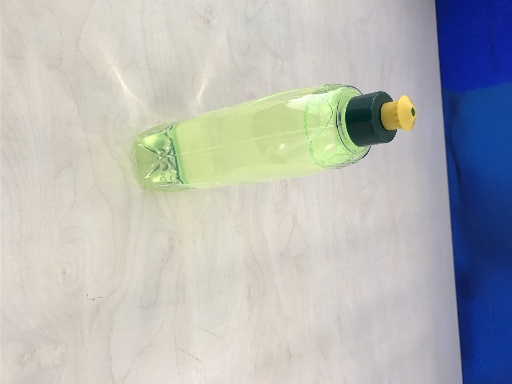Sapone: (131, 82, 417, 192)
